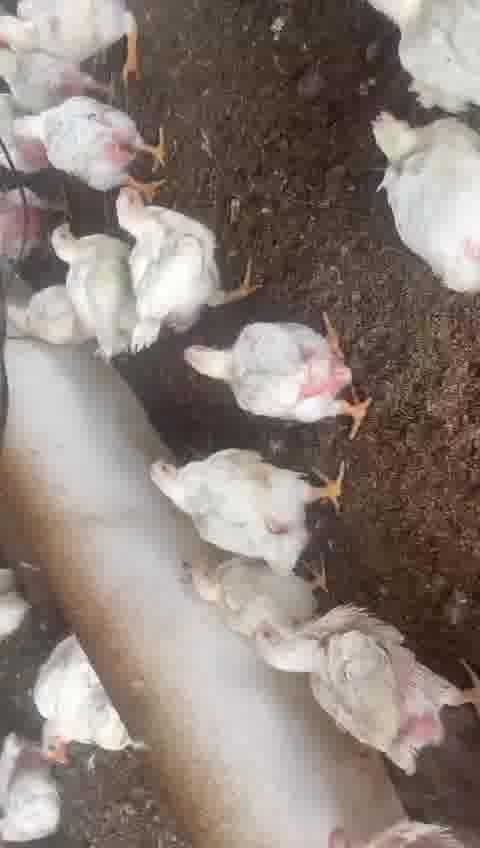AbNormal: (178, 555, 331, 633), (298, 797, 480, 848)
Normal: (255, 614, 476, 761), (144, 442, 338, 563), (368, 102, 480, 308), (107, 182, 255, 332), (182, 332, 393, 429), (46, 221, 172, 353), (12, 108, 163, 183)
